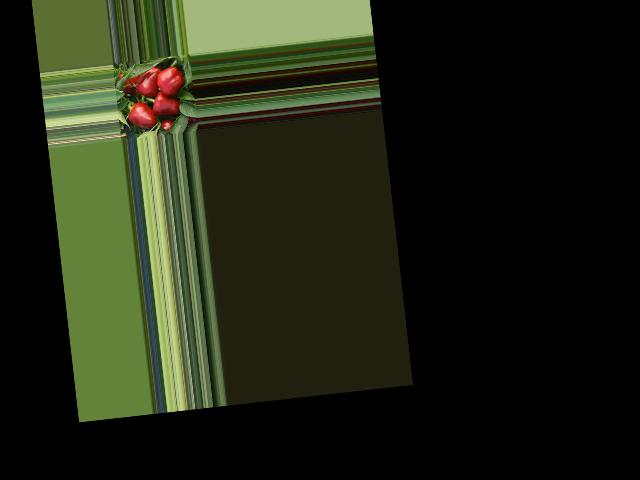bell_pepper: (155, 63, 185, 103)
